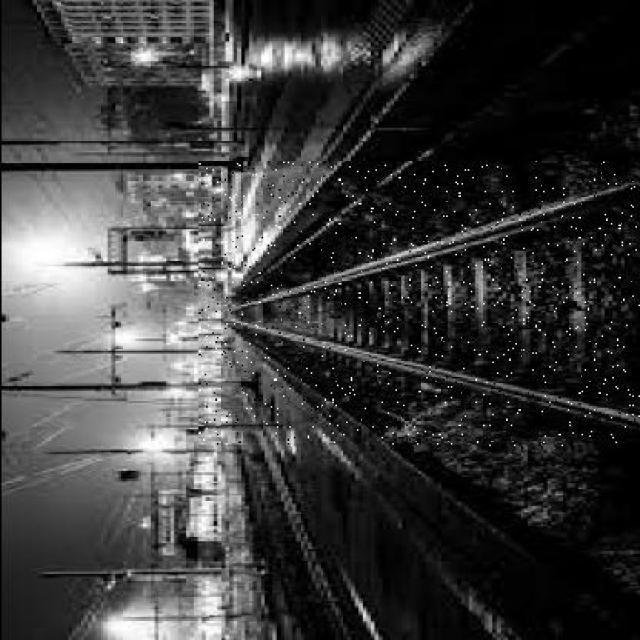rail: (198, 161, 638, 446)
